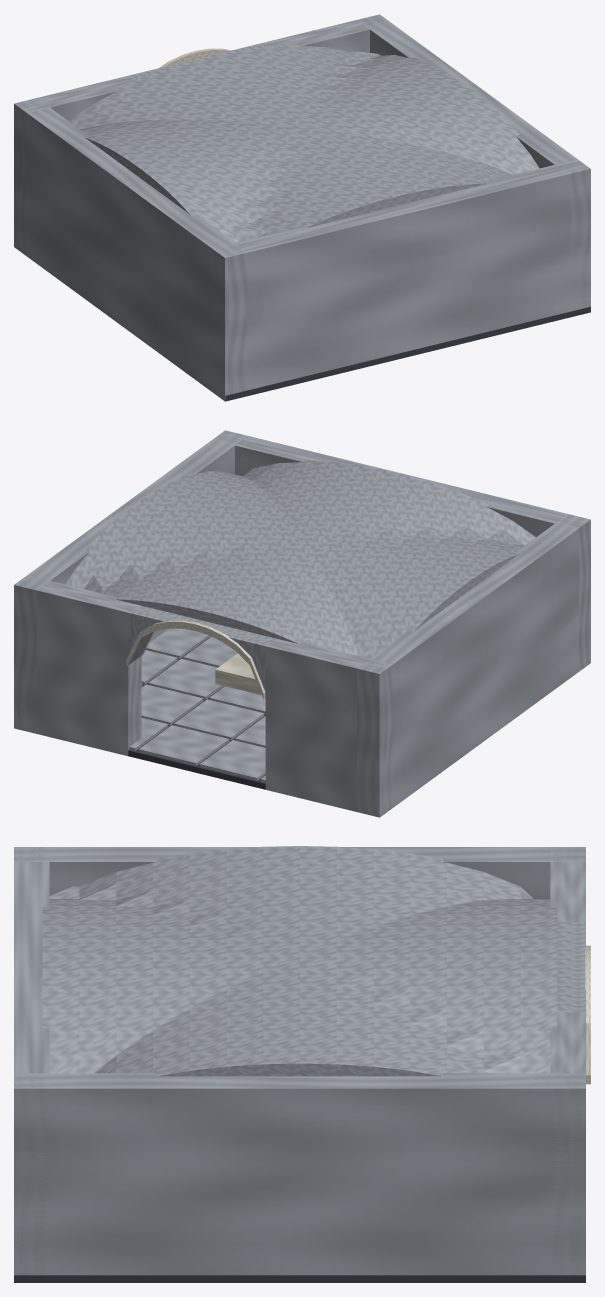
The model's file is vampire-crypt-and-gothic-cathedral-tomb-chamber-7563db3d__22982.glb.
3 renders of one model, top to bottom at view 1: azimuth 30°, elevation 25°; view 2: azimuth 150°, elevation 25°; view 3: azimuth 270°, elevation 25°, orthographic. The views are drawn at different scales.
Parts seen in each view (by area): view 1: tomb-chamber; view 2: tomb-chamber; view 3: tomb-chamber.
Part boxes in pixels (x1,y1,x2,y2): tomb-chamber: (14, 14, 590, 401); tomb-chamber: (14, 430, 590, 817); tomb-chamber: (14, 846, 590, 1282).
Size of the model in its own units: 8 by 3.2 by 8.07.
4 materials, 2 textured.
